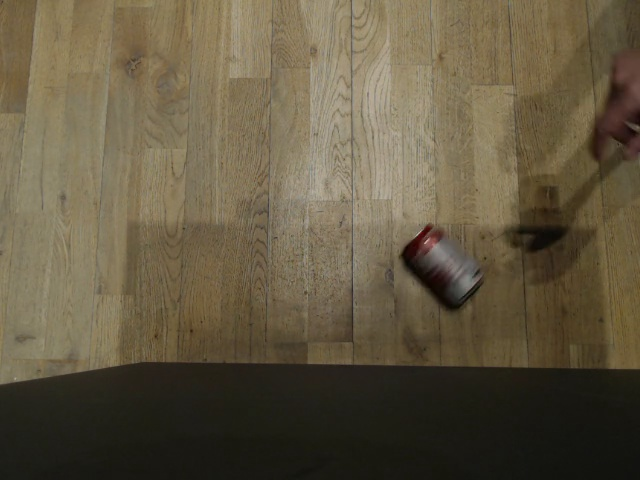coke: (400, 222, 487, 308)
